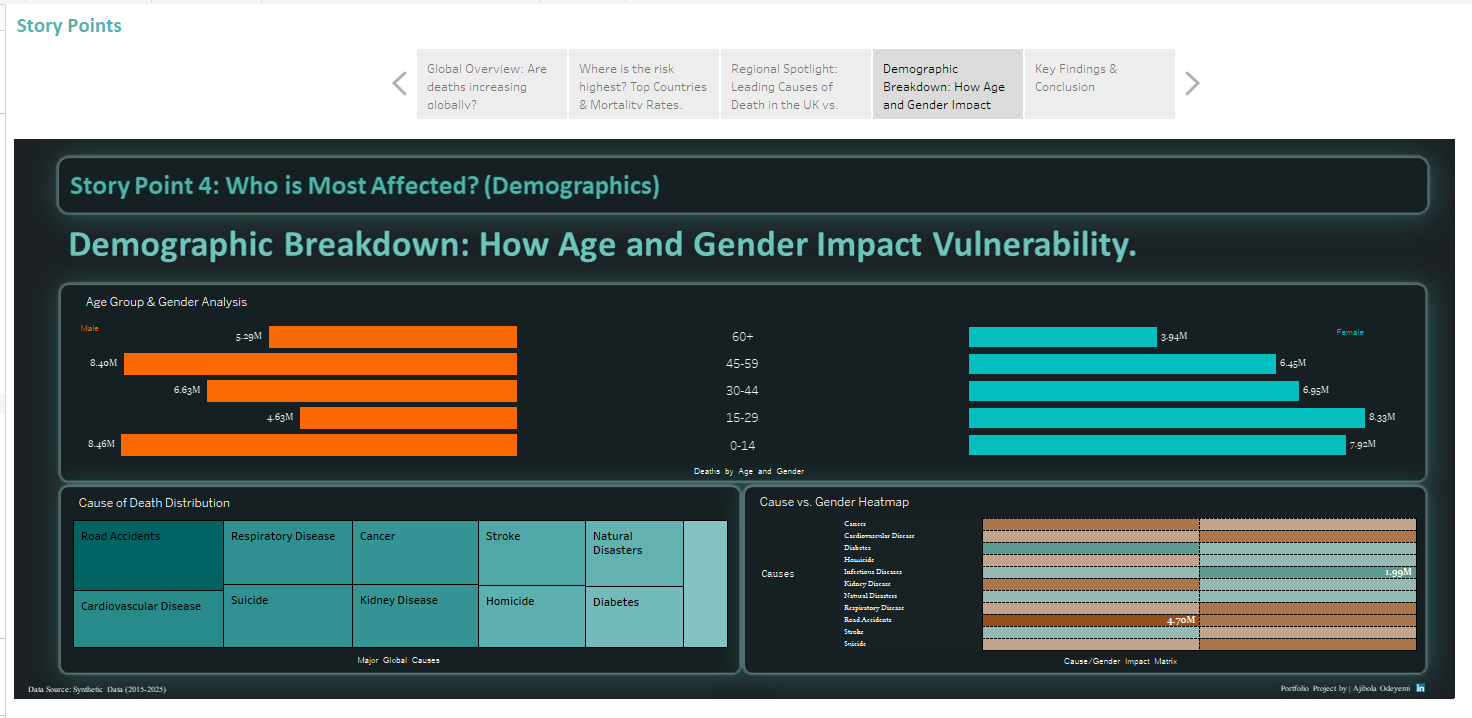

Layout of this report page (visuals, bound fields, positions):
{"tool":"tableau","page":{"name":"Dashboard 5","canvas":[1440,560],"ordinal":4},"visuals":[{"type":"text","box":[69,152,275,22]},{"type":"text","box":[64,177,91,23]},{"type":"text","box":[1320,181,91,23]},{"type":"worksheet","title":"Sheet 1 (6)","mark":"Automatic","rows":["Age_Group"],"cols":["Calculation_285134194749792262","Calculation_781374579013070849","Calculation_285134194750025735"],"box":[52,184,1354,136]},{"type":"text","box":[641,320,188,22]},{"type":"text","box":[743,354,246,18]},{"type":"text","box":[62,355,276,18]},{"type":"worksheet","title":"Sheet 1 (11)","mark":"Automatic","box":[55,377,662,136]},{"type":"worksheet","title":"Sheet 1 (12)","mark":"Square","rows":["Cause_of_Death"],"cols":["Gender"],"box":[824,379,579,133]},{"type":"text","box":[745,423,91,22]},{"type":"text","box":[341,508,170,25]},{"type":"text","box":[1008,513,197,17]}]}

Visuals, with their boxes on the page's 1440x560 design canvas (x1, y1, x2, y2). These are canvas units, not pixel positions in the 1472x718 screenshot, which may show the page scaled, cropped or inside an application window:
text: crop(69, 152, 344, 174)
text: crop(64, 177, 155, 200)
text: crop(1320, 181, 1411, 204)
"Sheet 1 (6)" worksheet: crop(52, 184, 1406, 320)
text: crop(641, 320, 829, 342)
text: crop(743, 354, 989, 372)
text: crop(62, 355, 338, 373)
"Sheet 1 (11)" worksheet: crop(55, 377, 717, 513)
"Sheet 1 (12)" worksheet (Square marks): crop(824, 379, 1403, 512)
text: crop(745, 423, 836, 445)
text: crop(341, 508, 511, 533)
text: crop(1008, 513, 1205, 530)
